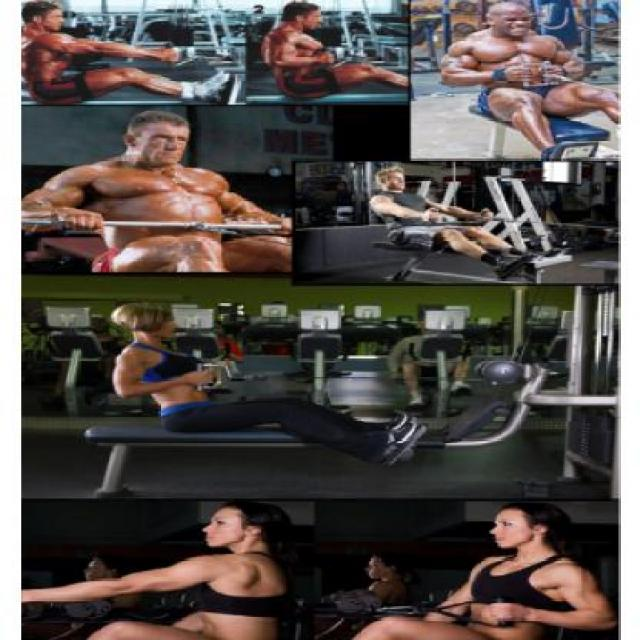Seated Cable Rows: (48, 277, 552, 463), (8, 0, 223, 100), (238, 0, 406, 98)
